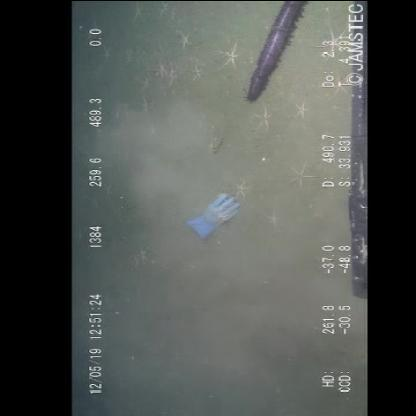Bio: (244, 1, 308, 102)
Rác: (184, 191, 248, 241)
